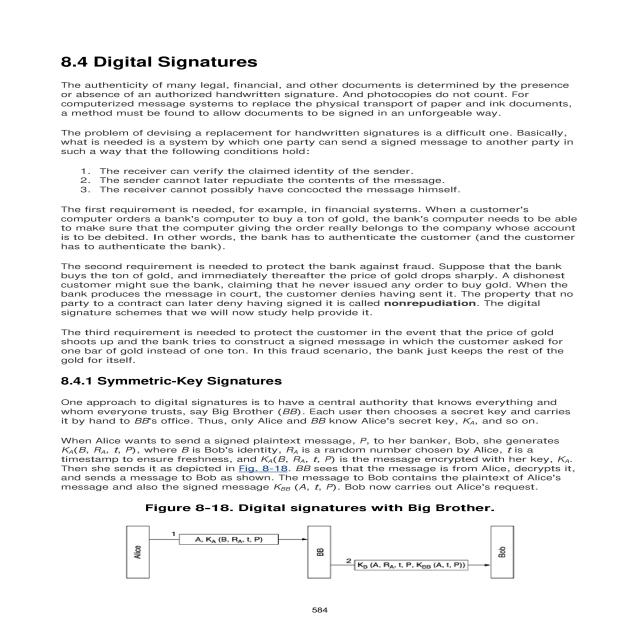diagram: (88, 494, 536, 594)
